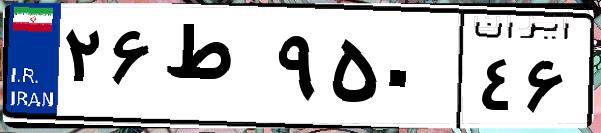0: (385, 28, 445, 110)
2: (57, 26, 110, 100)
4: (475, 38, 525, 113)
5: (330, 28, 385, 110)
6: (525, 38, 570, 115), (110, 28, 158, 98)
9: (270, 28, 330, 110)
ط: (158, 20, 270, 120)
